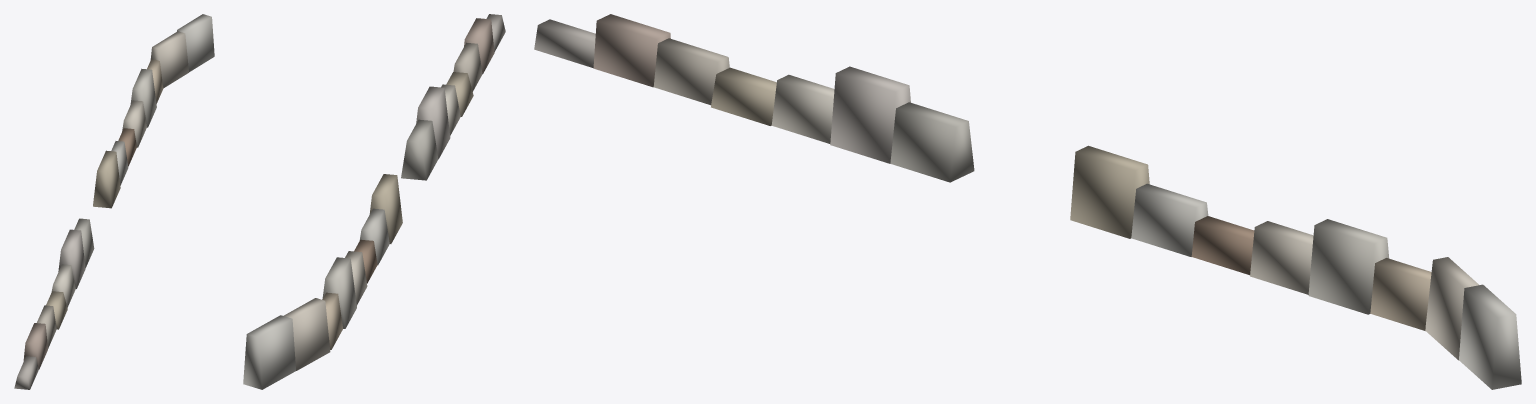
The model's file is farm_-40_-43_collision.glb.
3 views of the same model, side by side, from view 1: azimuth 30°, elevation 25°; view 2: azimuth 210°, elevation 25°; view 3: azimuth 270°, elevation 25° (orthographic). The views are drawn at different scales.
Visible parts, largest first — view 1: geometry_0; view 2: geometry_0; view 3: geometry_0.
Boxes of the visible parts, box(x1,y1,x2,y2) form: geometry_0: box(14, 14, 214, 389); geometry_0: box(243, 14, 505, 389); geometry_0: box(534, 14, 1521, 389).
Bounding box in the file's own units: 19.03 × 2.8 × 19.52.
